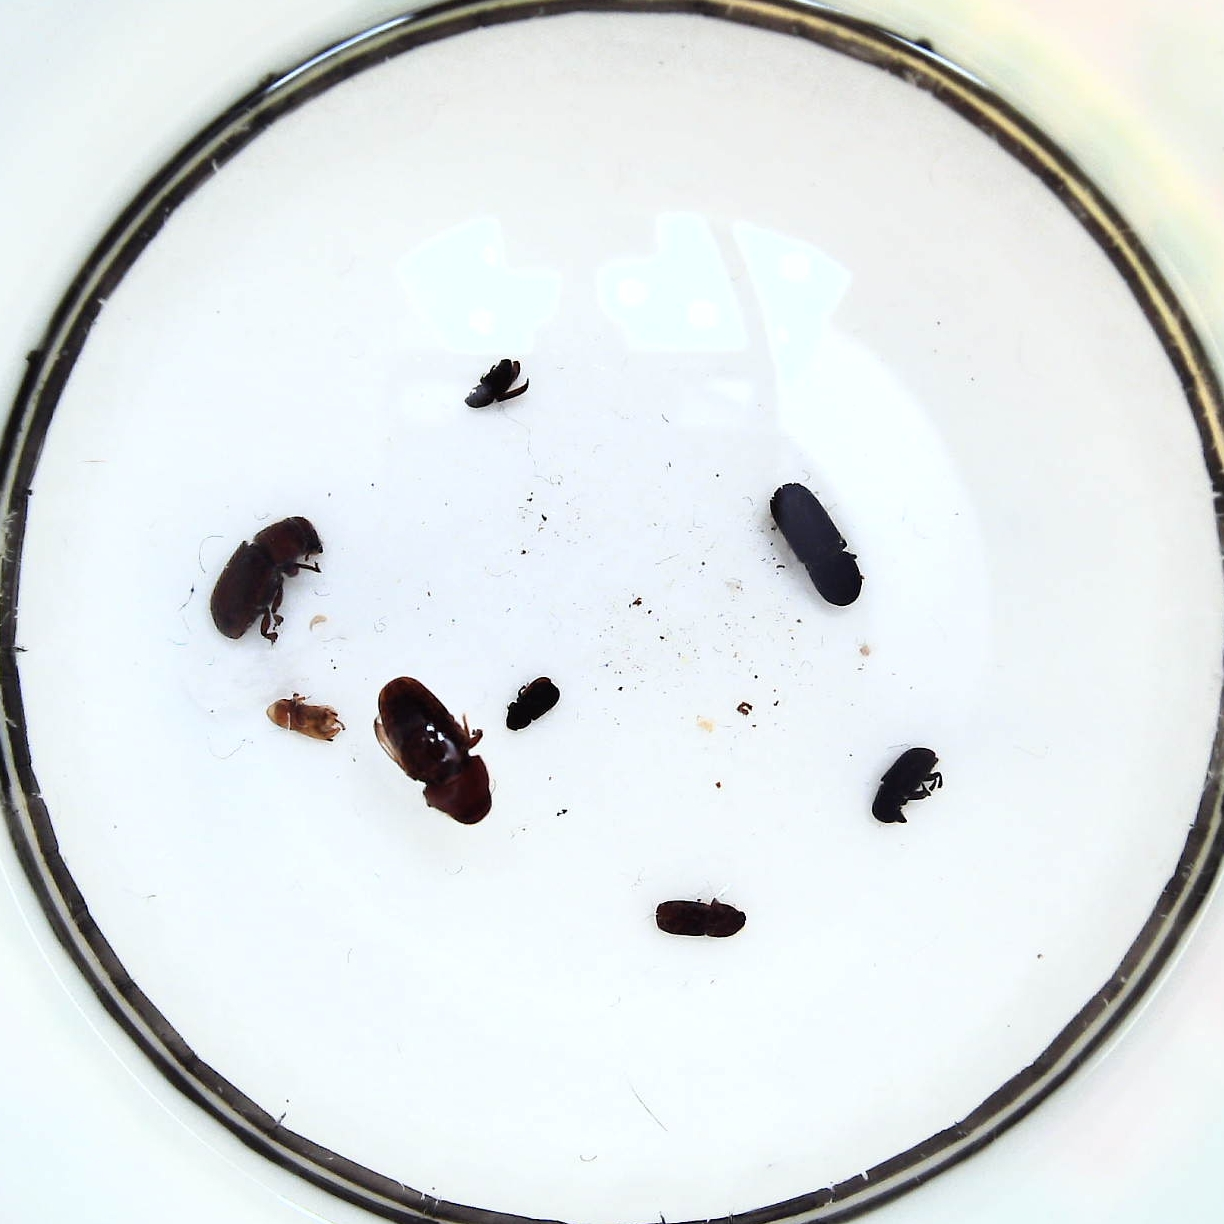Boerner: (771, 483, 862, 608)
Leconte: (373, 676, 493, 825), (211, 517, 325, 639)
acuminatus: (506, 678, 559, 729), (466, 358, 519, 408)
armandi: (872, 747, 938, 823)
coleoptera: (265, 699, 341, 743)
linnaeus: (657, 899, 745, 937)
